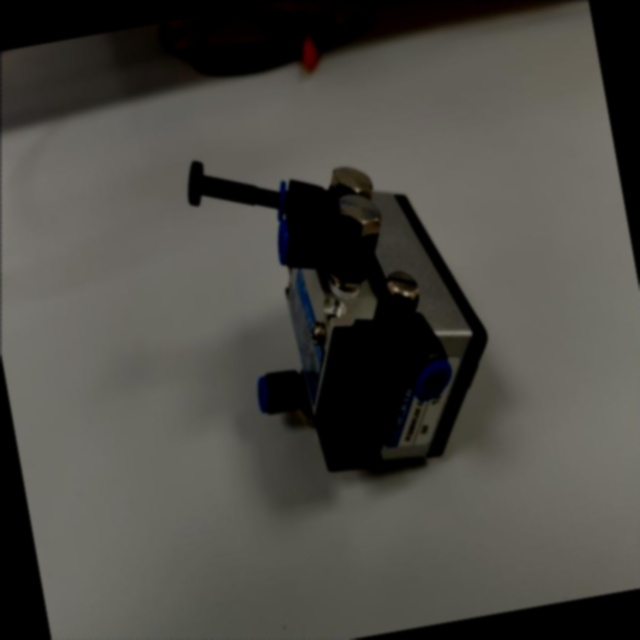5by2 DCV: (120, 99, 548, 538)
